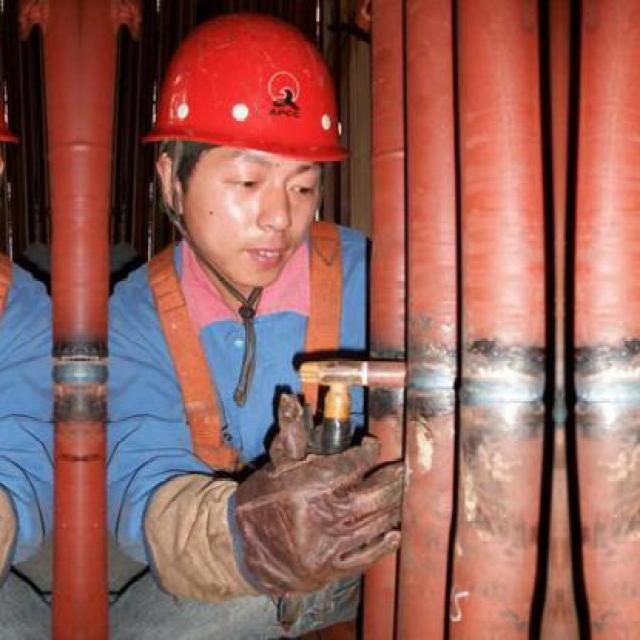helmet: (129, 3, 354, 295)
